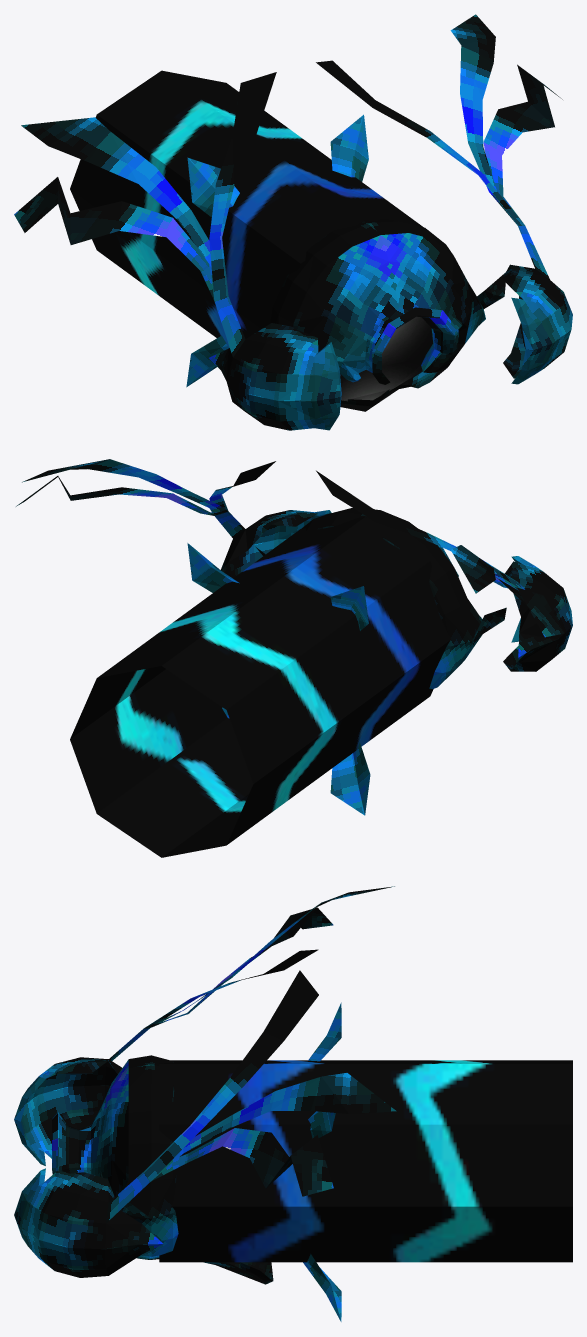
The model's file is shuipingzuozuoqi.obj.
3 views of the same model, one above another, from view 1: azimuth 30°, elevation 25°; view 2: azimuth 150°, elevation 25°; view 3: azimuth 270°, elevation 25° (orthographic).
Visible parts, largest first — view 1: shuipingzuozuoqi, guangshu_e, shuiming_abcd_bump; view 2: guangshu_e, shuipingzuozuoqi; view 3: guangshu_e, shuipingzuozuoqi.
Part boxes in pixels (x1,y1,x2,y2): shuipingzuozuoqi: (14,14,572,430); guangshu_e: (70,70,423,411); shuiming_abcd_bump: (340,316,432,401); guangshu_e: (70,516,451,857); shuipingzuozuoqi: (16,459,572,815); guangshu_e: (159,1060,572,1262); shuipingzuozuoqi: (14,886,396,1321).
Size of the model in its own units: 208 by 117 by 184.
4 materials, 4 textured.
